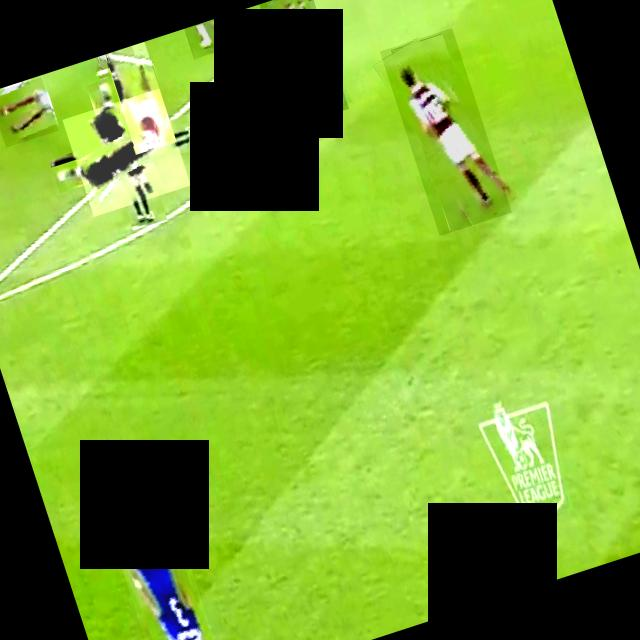referee: (61, 88, 190, 216)
soccer-player: (379, 27, 511, 235), (107, 506, 228, 640), (258, 0, 348, 124), (104, 41, 176, 154), (0, 76, 57, 146), (183, 16, 230, 58), (96, 45, 136, 70)
